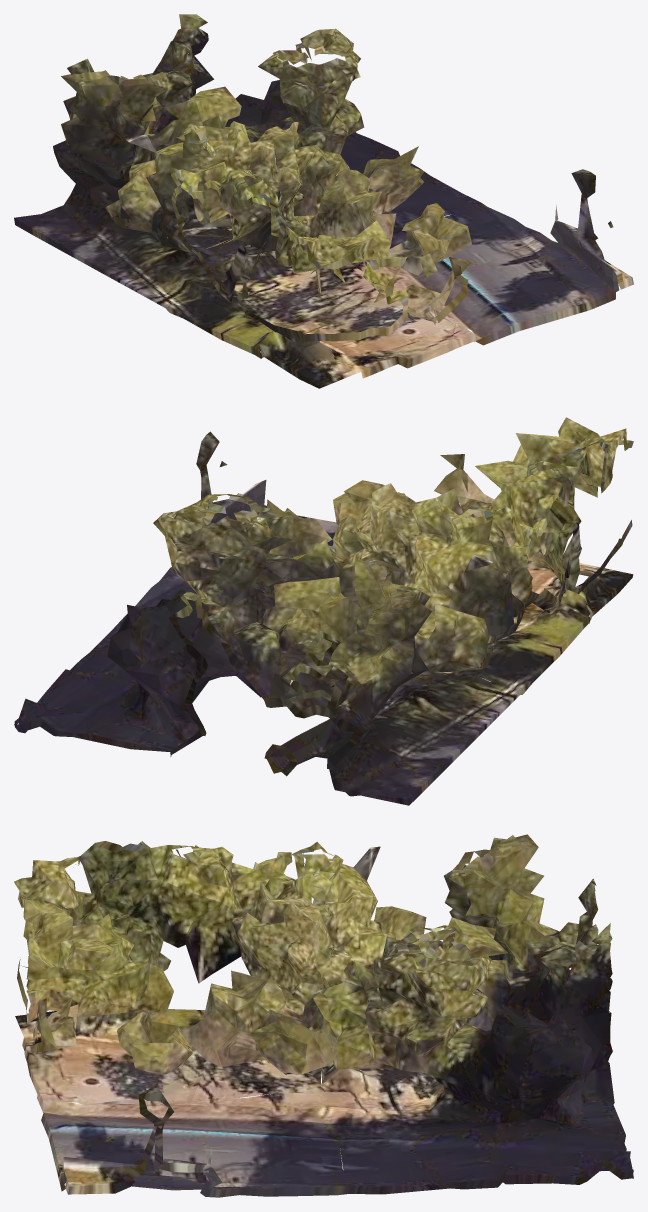
3 views of the same model, one above another, from view 1: azimuth 30°, elevation 25°; view 2: azimuth 150°, elevation 25°; view 3: azimuth 270°, elevation 25° (orthographic). The views are drawn at different scales.
Parts seen in each view (by area): view 1: Mesh_0; view 2: Mesh_0; view 3: Mesh_0.
Boxes of the visible parts, x1,y1,x2,y2 form: Mesh_0: (14, 14, 633, 388); Mesh_0: (14, 417, 633, 805); Mesh_0: (14, 834, 633, 1197).
Size of the model in its own units: 33.26 by 13.82 by 41.54.
Materials: 1 (1 with a texture image).
